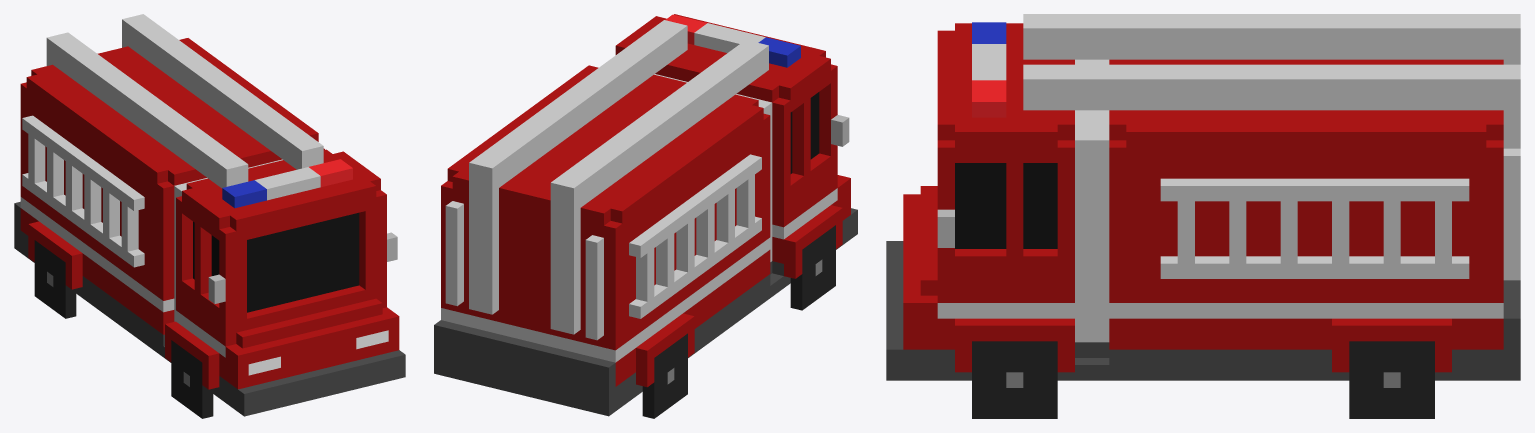
The model's file is firefighter.obj.
3 renders of one model, left to right at view 1: azimuth 30°, elevation 25°; view 2: azimuth 150°, elevation 25°; view 3: azimuth 270°, elevation 25°, orthographic. The views are drawn at different scales.
Visible parts, largest first — view 1: Untitled.005; view 2: Untitled.005; view 3: Untitled.005.
Part boxes in pixels (bbox=[...]): Untitled.005: bbox=[14, 14, 405, 418]; Untitled.005: bbox=[434, 14, 857, 418]; Untitled.005: bbox=[886, 14, 1520, 418].
Bounding box in the file's own units: 1.7 × 2 × 3.7.
1 material, 1 textured.
